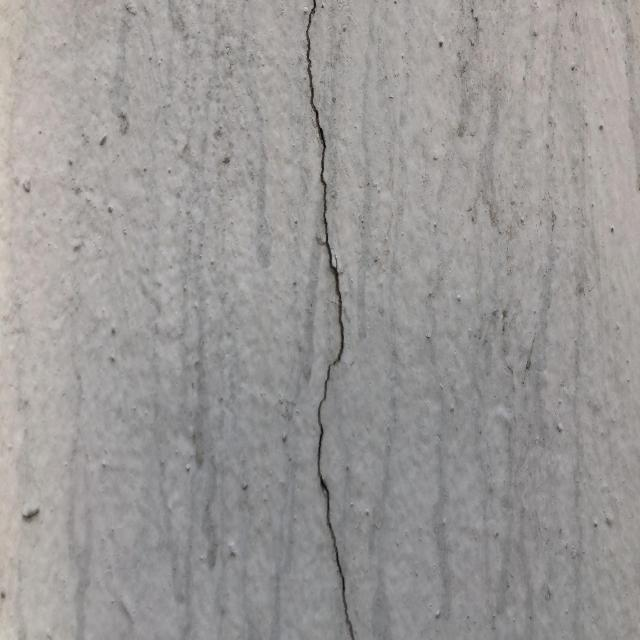SurfaceCrack: (260, 1, 396, 640)
